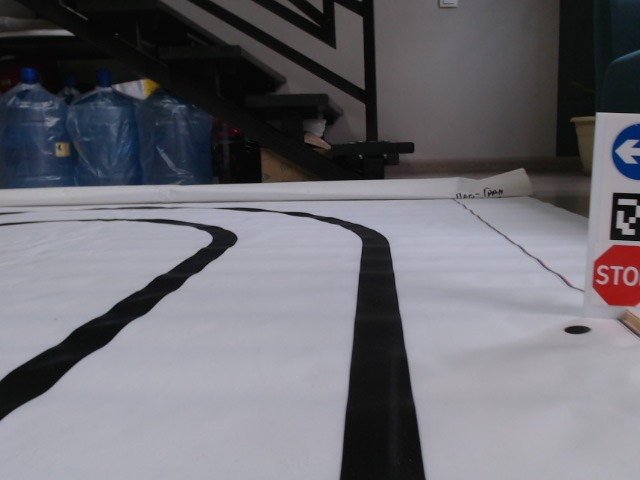Stop: (590, 243, 640, 309)
